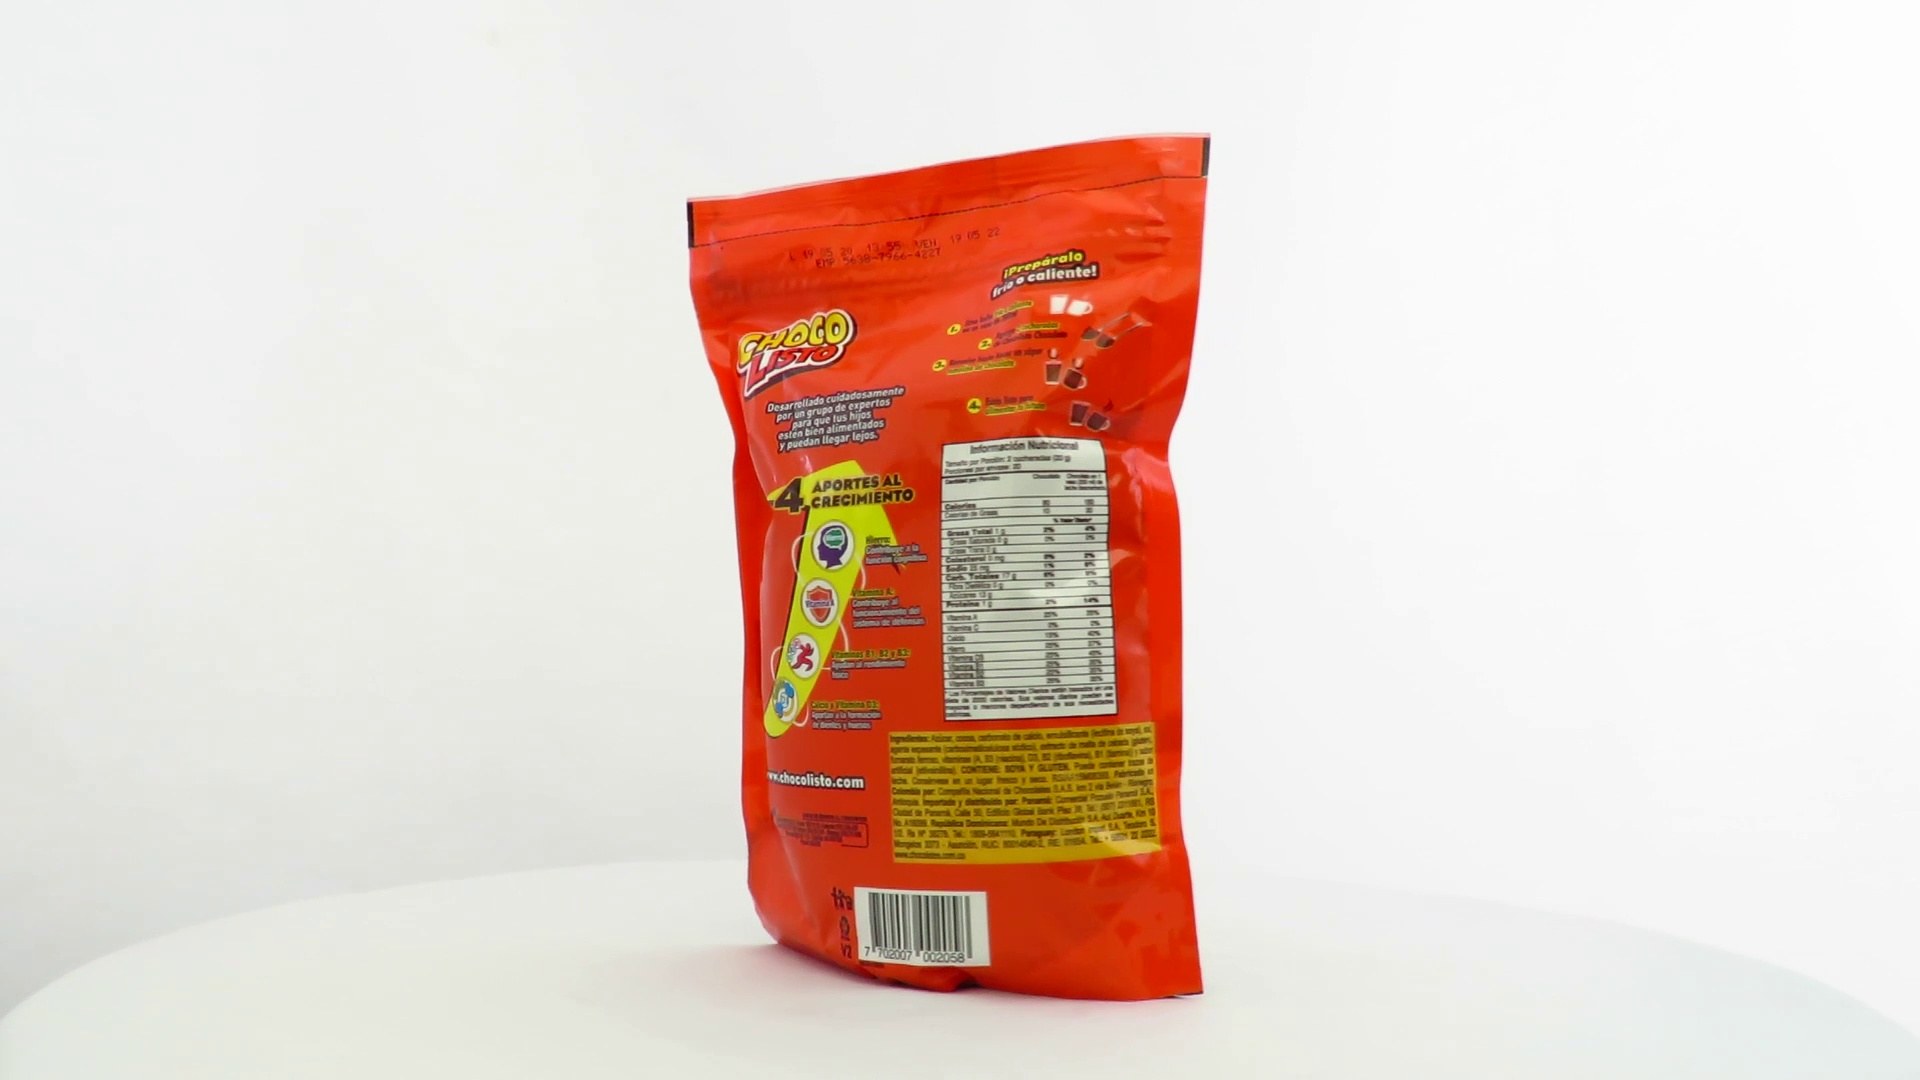COL0170103DYP40000: (680, 127, 1217, 1007)
